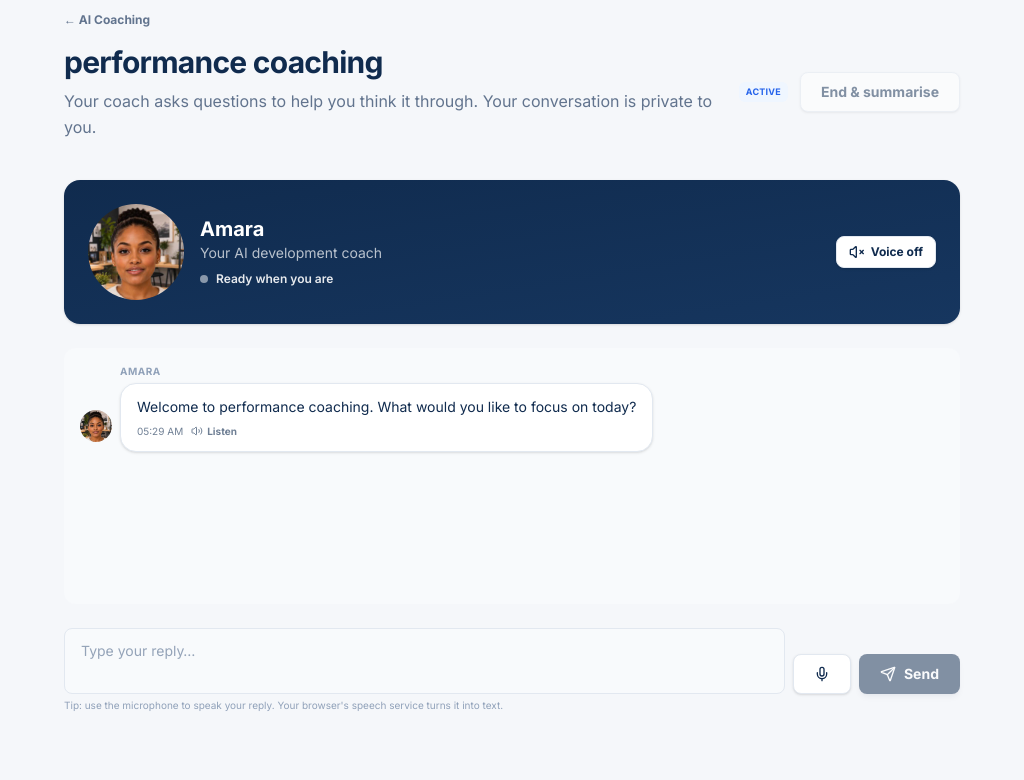
Scenario: AI Coaching avatar › speaks replies aloud when voice is on
The width and height of the screenshot is (1024, 780).
Later steps or results of the test are not shown.
Click the button "Voice off" at coordinates (886, 252), box [836,236,936,268]
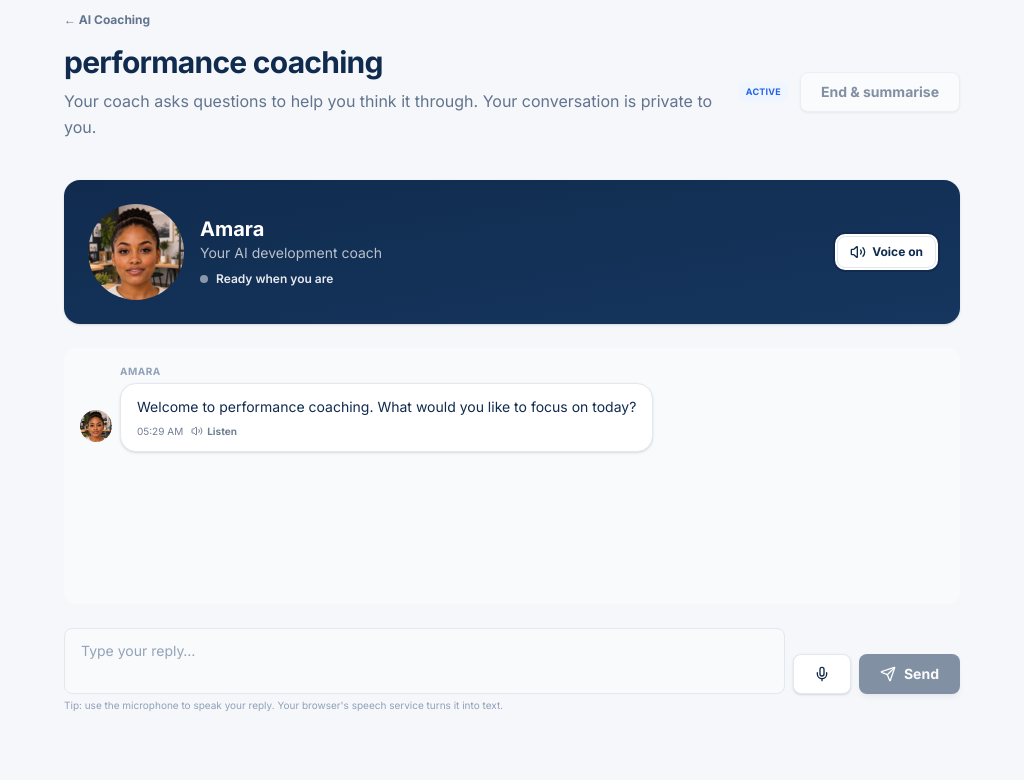
Expected: the button "Voice on" is shown, [837,236,936,268]
